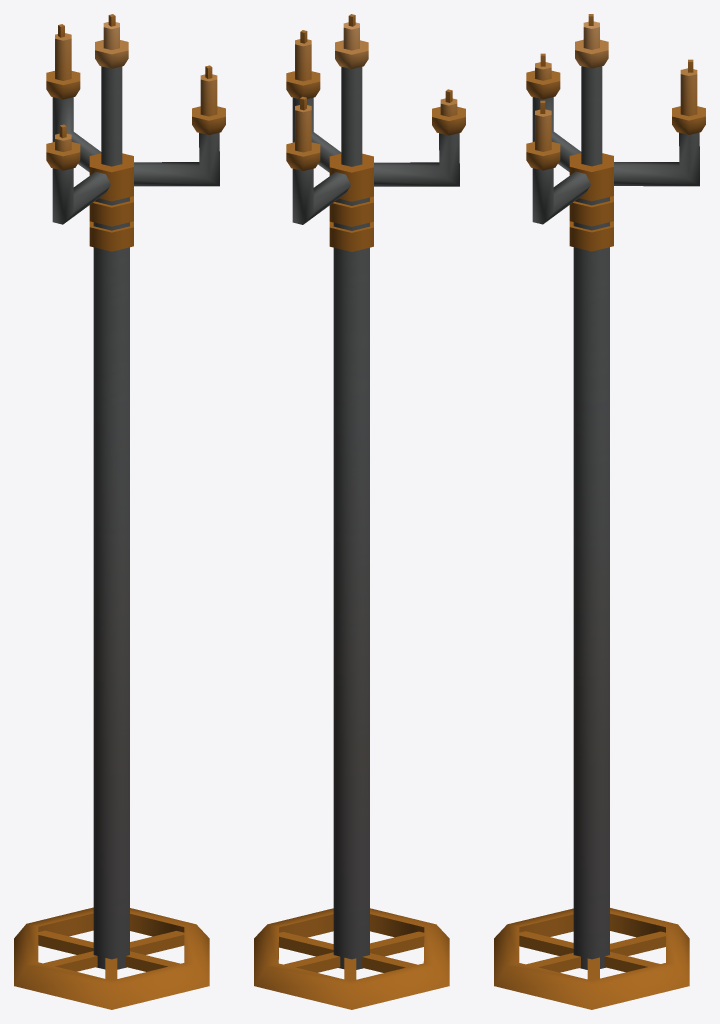
The model's file is Candle_Stand_01.fbx.
The picture shows the model from 3 angles, left to right: view 1: azimuth 30°, elevation 25°; view 2: azimuth 150°, elevation 25°; view 3: azimuth 270°, elevation 25°; orthographic projection.
Parts seen in each view (by area): view 1: Candle_Stand_01; view 2: Candle_Stand_01; view 3: Candle_Stand_01.
Boxes of the visible parts, box(x1,y1,x2,y2) form: Candle_Stand_01: box(14, 14, 225, 1009); Candle_Stand_01: box(254, 14, 465, 1009); Candle_Stand_01: box(494, 14, 705, 1009).
Bounding box in the file's own units: 40.76 × 189 × 38.25.
